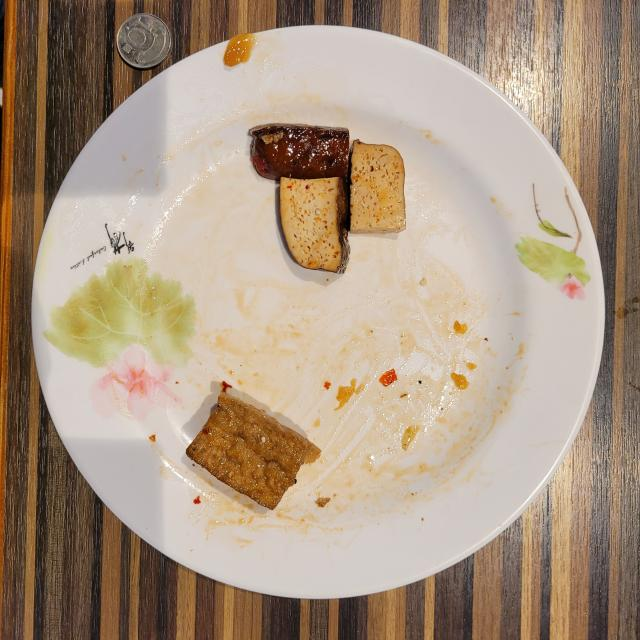coin: (116, 14, 171, 69)
egg tofu: (186, 394, 321, 509)
firm tofu: (249, 124, 405, 272)
